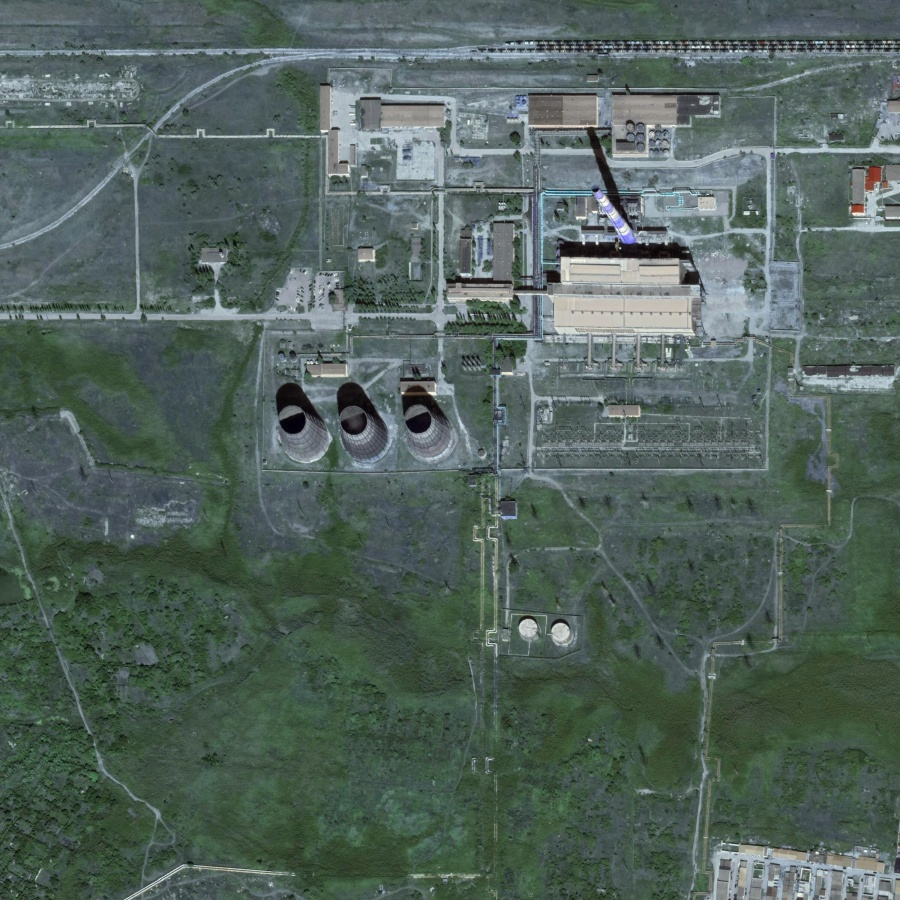PowerPlant: (249, 65, 730, 494)
